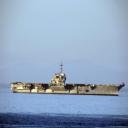Portanaves: (9, 62, 127, 97)
